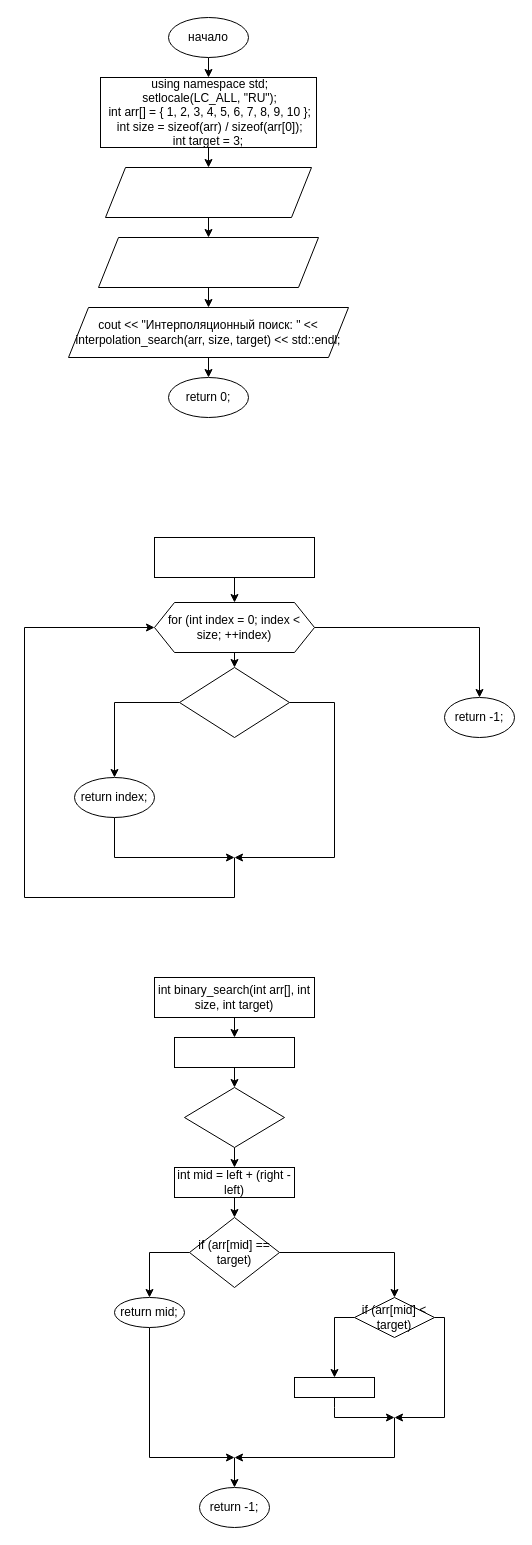
This 532x1545 diagram has some shape labels left out. Here are the shapes that lost their labels. From the top down, the centre of each, then its label:
(208,192): cout << "Линейный поиск: " << linear_search(arr, size, target) << std::endl;
(208,262): cout << "Бинарный поиск: " << binary_search(arr, size, target) << std::endl;
(234,557): int linear_search(int arr[], int size, int target)
(234,702): if (arr[index] == target)
(234,1052): int left = 0; int right = size - 1;
(234,1117): while (left <= right)
(334,1387): left = mid + 1;
